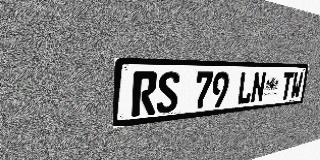7: (192, 72, 214, 110)
9: (210, 72, 230, 108)
L: (236, 72, 254, 105)
N: (250, 72, 267, 104)
R: (131, 72, 158, 117)
S: (156, 72, 180, 114)
T: (280, 72, 294, 100)
W: (290, 72, 304, 99)
